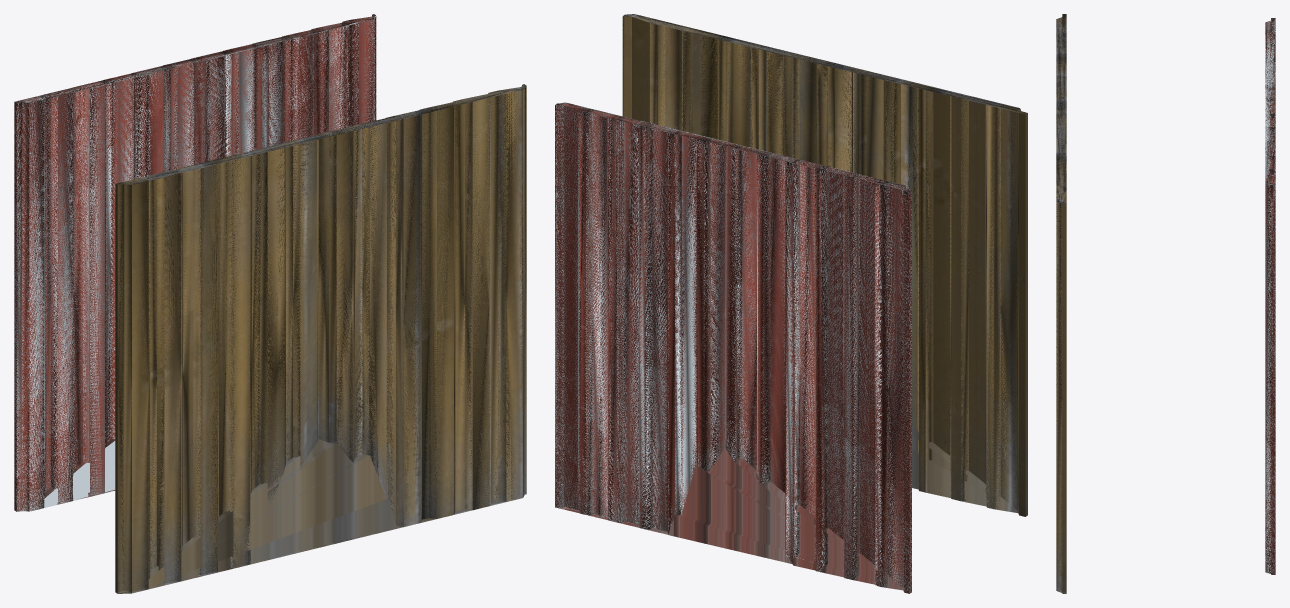
Rendered from corrugate hole_fixed.fbx.
3 renders of one model, left to right at view 1: azimuth 30°, elevation 25°; view 2: azimuth 150°, elevation 25°; view 3: azimuth 270°, elevation 25°, orthographic. The views are drawn at different scales.
Parts seen in each view (by area): view 1: Group1, Group2; view 2: Group2, Group1; view 3: Group1, Group2.
Boxes of the visible parts, <box> form: Group1: <box>115,84,526,593</box>; Group2: <box>14,14,376,511</box>; Group2: <box>555,102,911,593</box>; Group1: <box>622,14,1027,516</box>; Group1: <box>1056,14,1066,593</box>; Group2: <box>1265,18,1275,574</box>.
Bounding box in the file's own units: 89.5 × 85.42 × 43.53.
